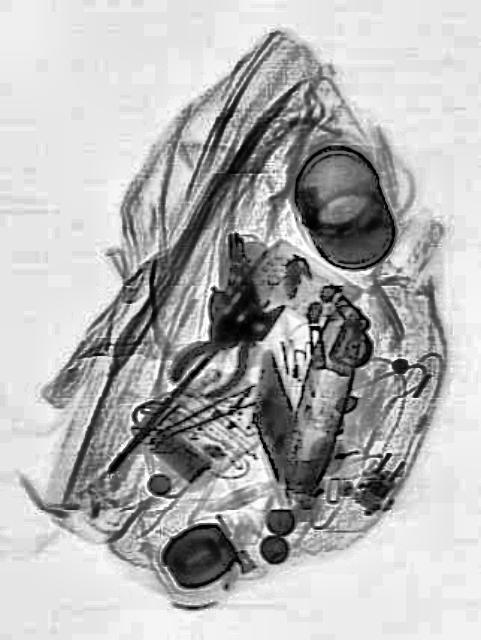Pliers: (164, 279, 296, 419)
